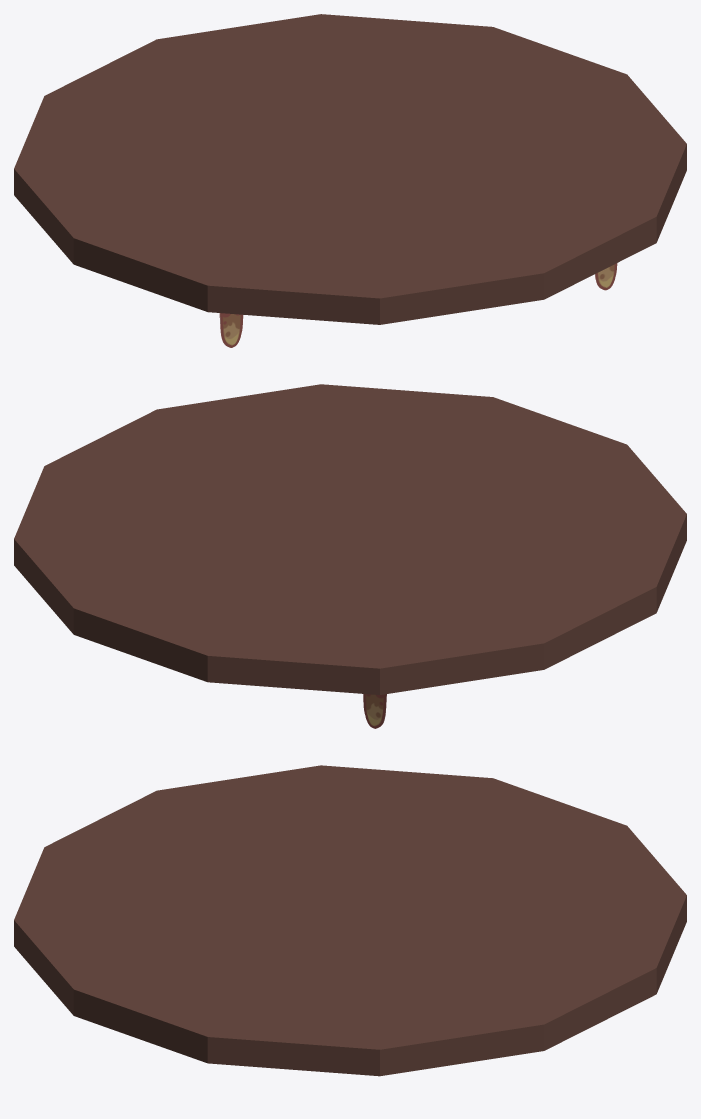
The model's file is table.fbx.
3 renders of one model, top to bottom at view 1: azimuth 30°, elevation 25°; view 2: azimuth 150°, elevation 25°; view 3: azimuth 270°, elevation 25°, orthographic.
Visible parts, largest first — view 1: pCylinder1, pPlane15; view 2: pCylinder1, pPlane16; view 3: pCylinder1.
Part boxes in pixels (x1,y1,x2,y2): pCylinder1: (14,14,686,324); pPlane15: (219,313,243,347); pCylinder1: (14,384,686,694); pPlane16: (363,694,386,728); pCylinder1: (14,765,686,1076).
Bounding box in the file's own units: 6.26 × 0.8622 × 6.26.
2 materials, 1 textured.
